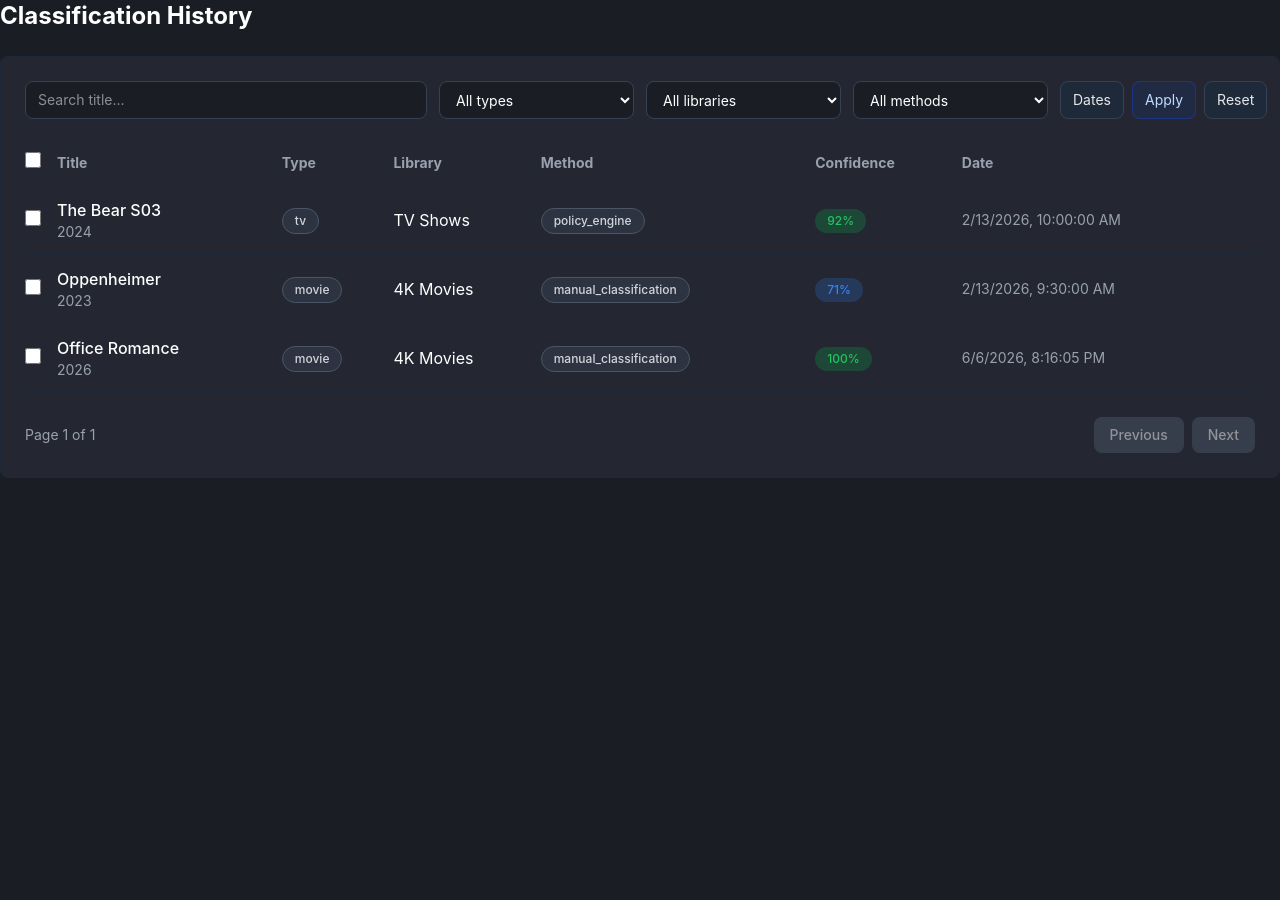
Test case: History enhancements behavior › separates final manual outcome confidence from the original signal snapshot score
Expected: the row that starts with "Office Romance" is shown, [25,324,1255,392]
Step 1. Click the cell "Office Romance 2026" → (169, 358), box [57,324,282,392]
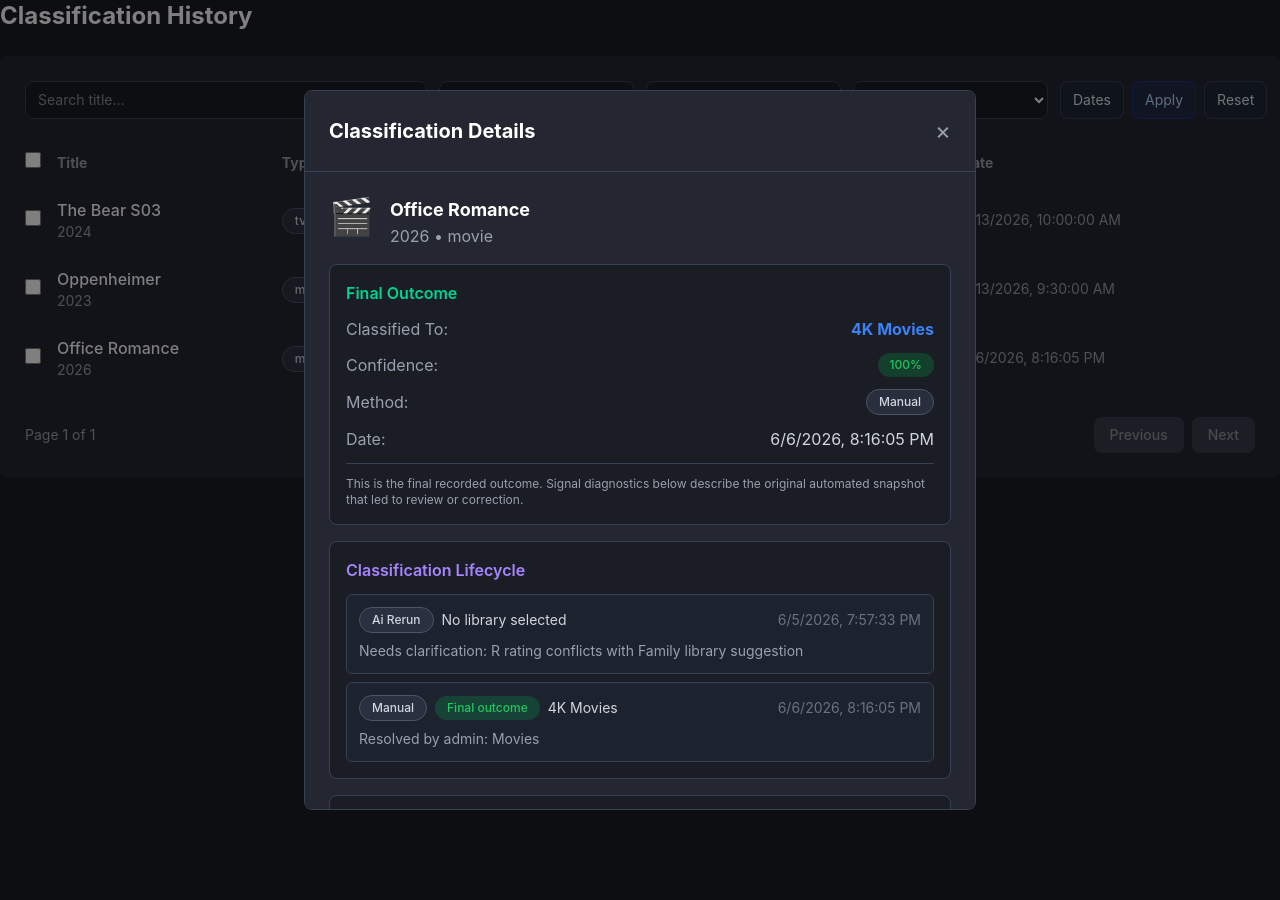
Expected: the text "4K Movies" is shown, [394,254,541,324]
Now the text "Final Outcome" is shown, box [346,283,457,303]
Now the text "Ai Rerun" is shown, box [359,607,434,633]
